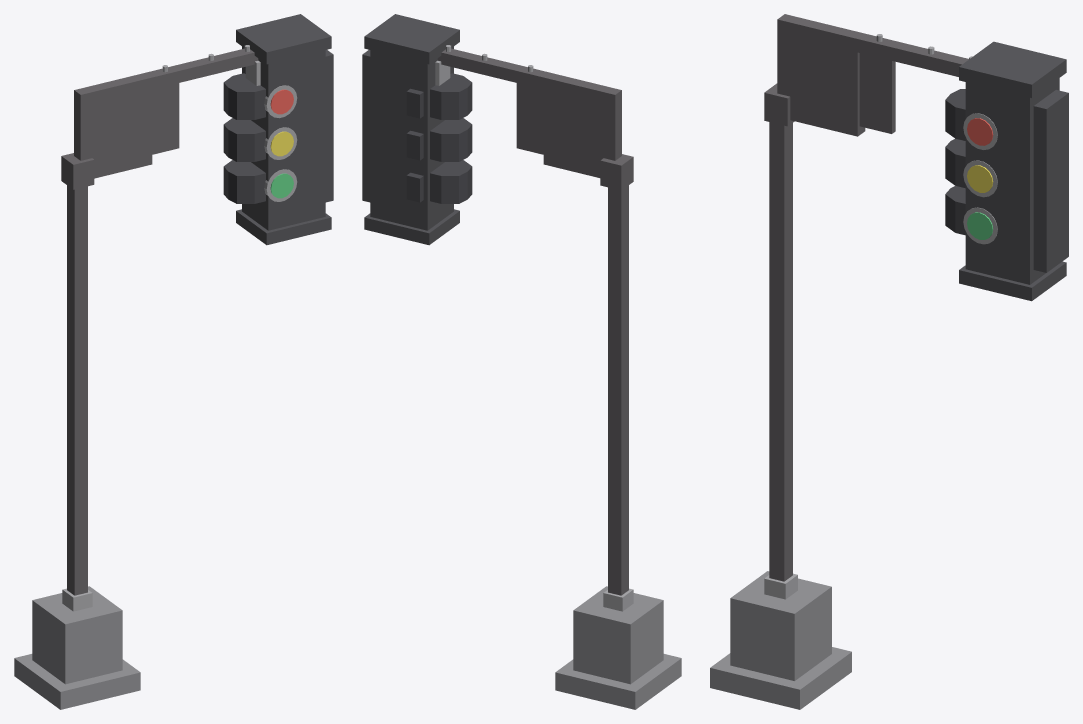
The model's file is Trafficlight01.fbx.
3 renders of one model, left to right at view 1: azimuth 30°, elevation 25°; view 2: azimuth 150°, elevation 25°; view 3: azimuth 330°, elevation 25°, orthographic. The views are drawn at different scales.
Visible parts, largest first — view 1: Trafficlight; view 2: Trafficlight; view 3: Trafficlight.
Part boxes in pixels (x1,y1,x2,y2): Trafficlight: (14,14,333,709); Trafficlight: (362,14,681,709); Trafficlight: (710,14,1068,709).
Size of the model in its own units: 203 by 405 by 56.71.
